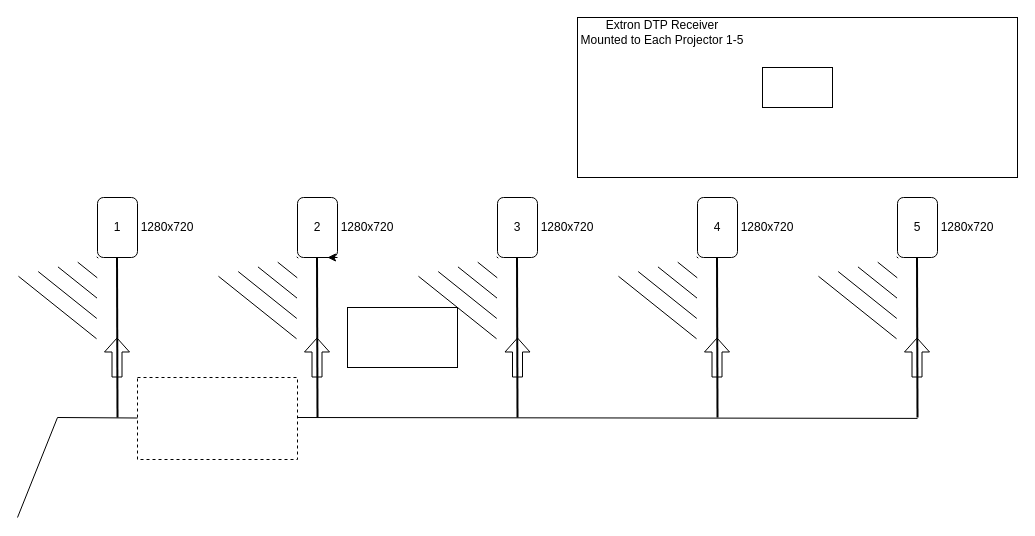
Image size: 1035x536. Some labels were removed from this diagram. The centre of each missing label's shape, as x and y in pixels:
Ethernet Connection 2x, Power Connection: (x=217, y=418)
Wireless Extron DTP Receiver, 1280x720p, x5: (x=402, y=337)
